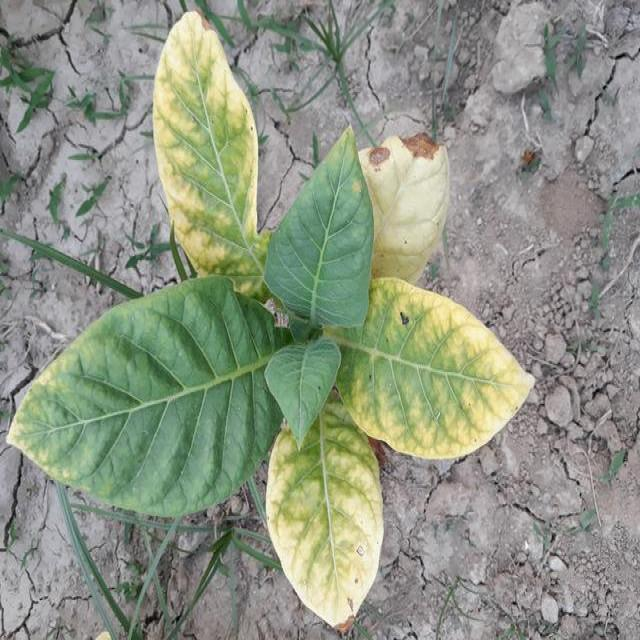crop: (26, 14, 528, 598)
